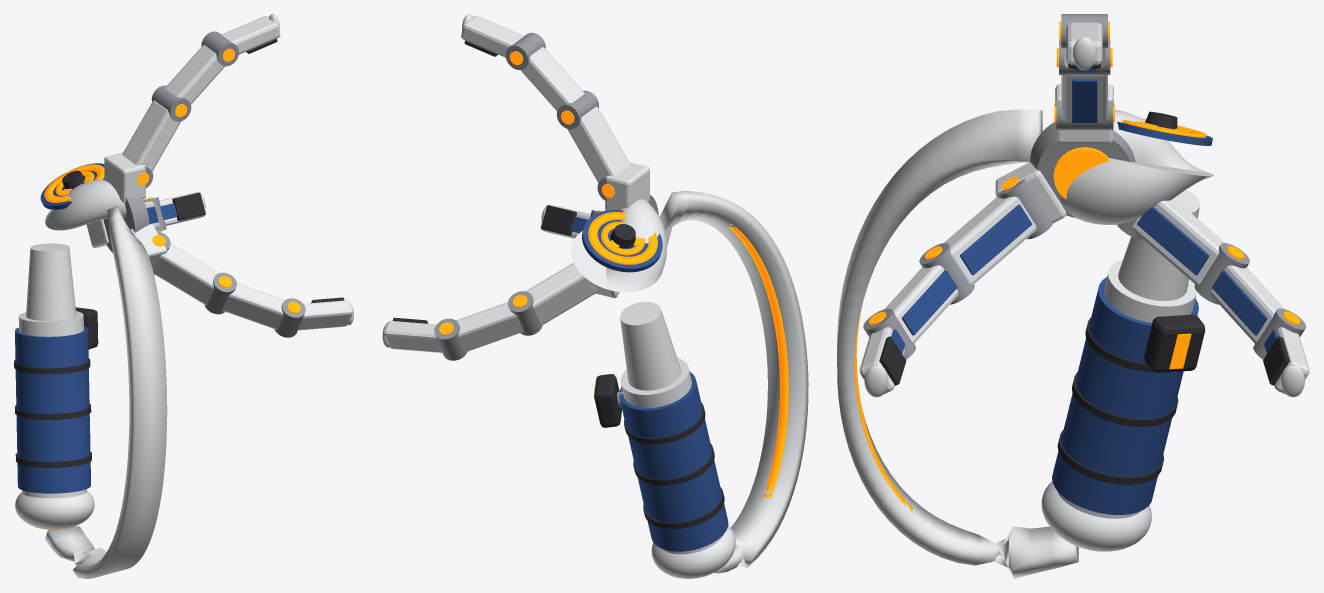
Rendered from claw_tool.glb.
3 views of the same model, side by side, from view 1: azimuth 30°, elevation 25°; view 2: azimuth 150°, elevation 25°; view 3: azimuth 270°, elevation 25° (orthographic). The views are drawn at different scales.
Parts seen in each view (by area): view 1: ClawBody, F1S1, F0S1, F1S0, F0S0, F1S2, F0S2, F2S2; view 2: ClawBody, F2S1, F0S1, F0S0, F2S2, F0S2, F2S0, F1S2; view 3: ClawBody, F1S0, F2S0, F2S1, F1S1, F1S2, F2S2, F0S0, F0S2, F0S1.
Boxes of the visible parts, box(x1,y1,x2,y2) form: ClawBody: box(14, 152, 167, 578); F1S1: box(204, 272, 284, 329); F0S1: box(151, 44, 224, 121); F1S0: box(152, 231, 219, 305); F0S0: box(122, 100, 181, 188); F1S2: box(274, 297, 353, 337); F0S2: box(201, 14, 280, 66); F2S2: box(143, 192, 206, 231); ClawBody: box(571, 162, 808, 578); F2S1: box(456, 291, 542, 352); F0S1: box(520, 47, 598, 129); F0S0: box(567, 106, 630, 200); F2S2: box(382, 317, 467, 360); F0S2: box(461, 14, 545, 69); F2S0: box(526, 262, 597, 325); F1S2: box(540, 204, 601, 238); ClawBody: box(837, 84, 1214, 578); F1S0: box(944, 176, 1053, 285); F2S0: box(1117, 198, 1224, 285); F2S1: box(1194, 243, 1284, 343); F1S1: box(885, 243, 974, 343); F1S2: box(859, 308, 915, 397); F2S2: box(1253, 308, 1309, 397); F0S0: box(1054, 75, 1114, 129); F0S2: box(1059, 14, 1109, 70); F0S1: box(1056, 40, 1112, 74).
Size of the model in its own units: 0.1194 by 0.2188 by 0.1375.
